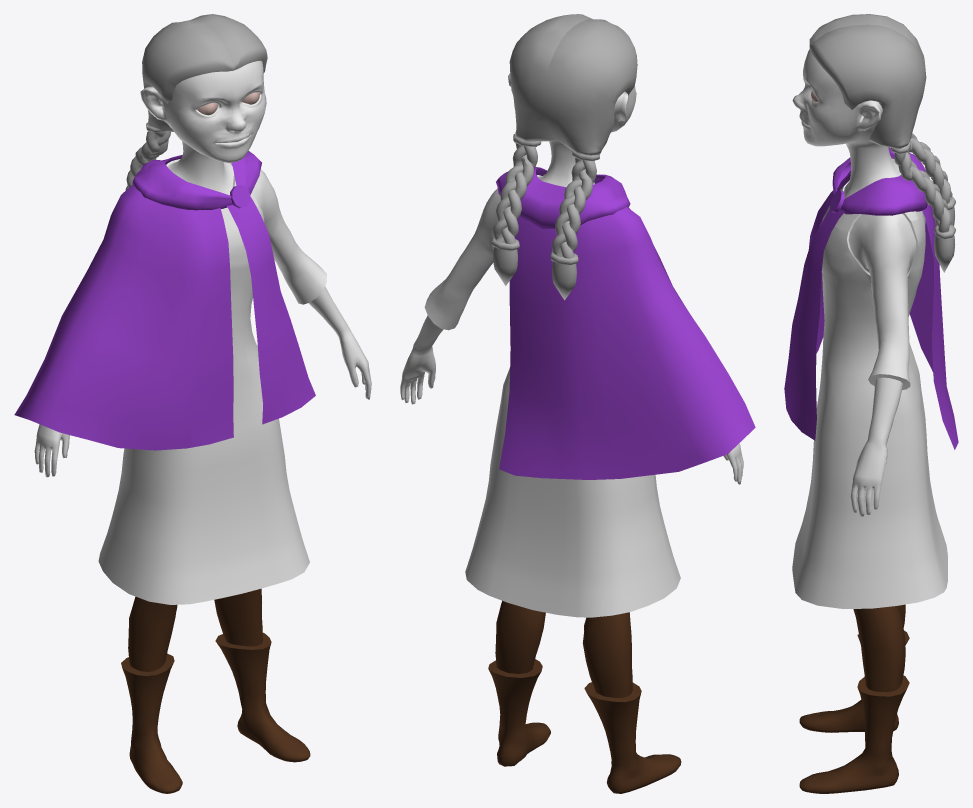
The picture shows the model from 3 angles, left to right: view 1: azimuth 30°, elevation 25°; view 2: azimuth 150°, elevation 25°; view 3: azimuth 270°, elevation 25°; orthographic projection.
Parts seen in each view (by area): view 1: YG_Body_Geo, Cape_01_Geo, YG_Legs_Geo, Cape_03_Geo, Hair_Geo, Cape_02_Geo, Braid_Geo; view 2: Cape_01_Geo, YG_Body_Geo, YG_Legs_Geo, Hair_Geo, Braid_Geo (×2), Cape_02_Geo, Tuft_Geo (×2); view 3: YG_Body_Geo, YG_Legs_Geo, Hair_Geo, Cape_03_Geo, Cape_01_Geo, Cape_02_Geo, Braid_Geo (×2), Tuft_Geo.
Part boxes in pixels (x1,y1,x2,y2): YG_Body_Geo: [34, 60, 371, 604]; Cape_01_Geo: [14, 155, 233, 450]; YG_Legs_Geo: [121, 588, 310, 793]; Cape_03_Geo: [227, 196, 315, 424]; Hair_Geo: [142, 14, 267, 131]; Cape_02_Geo: [132, 151, 261, 210]; Braid_Geo: [125, 131, 170, 190]; Cape_01_Geo: [499, 207, 755, 479]; YG_Body_Geo: [400, 73, 743, 617]; YG_Legs_Geo: [488, 600, 681, 793]; Hair_Geo: [509, 14, 637, 155]; Braid_Geo (×2): [492, 143, 596, 258]; Cape_02_Geo: [496, 166, 630, 228]; Tuft_Geo (×2): [493, 247, 576, 300]; YG_Body_Geo: [792, 49, 947, 608]; YG_Legs_Geo: [799, 604, 909, 793]; Hair_Geo: [809, 14, 926, 149]; Cape_03_Geo: [784, 209, 844, 440]; Cape_01_Geo: [808, 153, 958, 449]; Cape_02_Geo: [832, 147, 927, 215]; Braid_Geo (×2): [894, 133, 953, 232]; Tuft_Geo: [934, 234, 955, 272].
Bounding box in the file's own units: 11.44 × 23.35 × 5.02.
